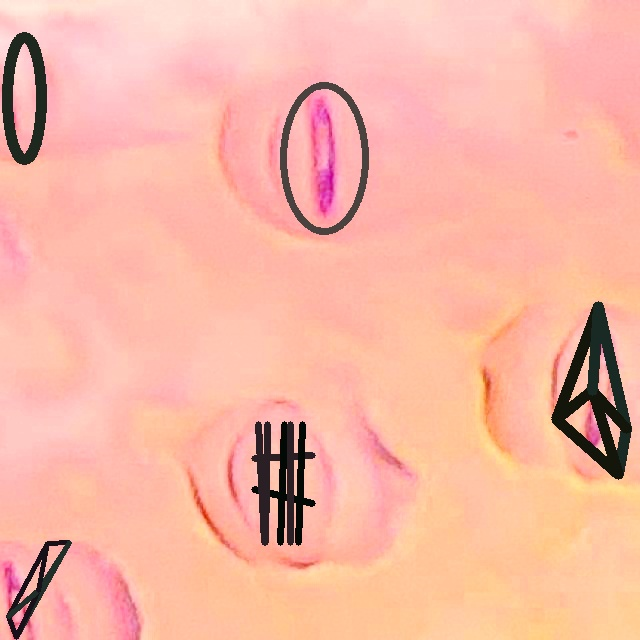close: (251, 422, 315, 544)
open: (552, 302, 631, 478), (279, 81, 368, 235), (6, 541, 71, 639), (1, 32, 46, 163)
